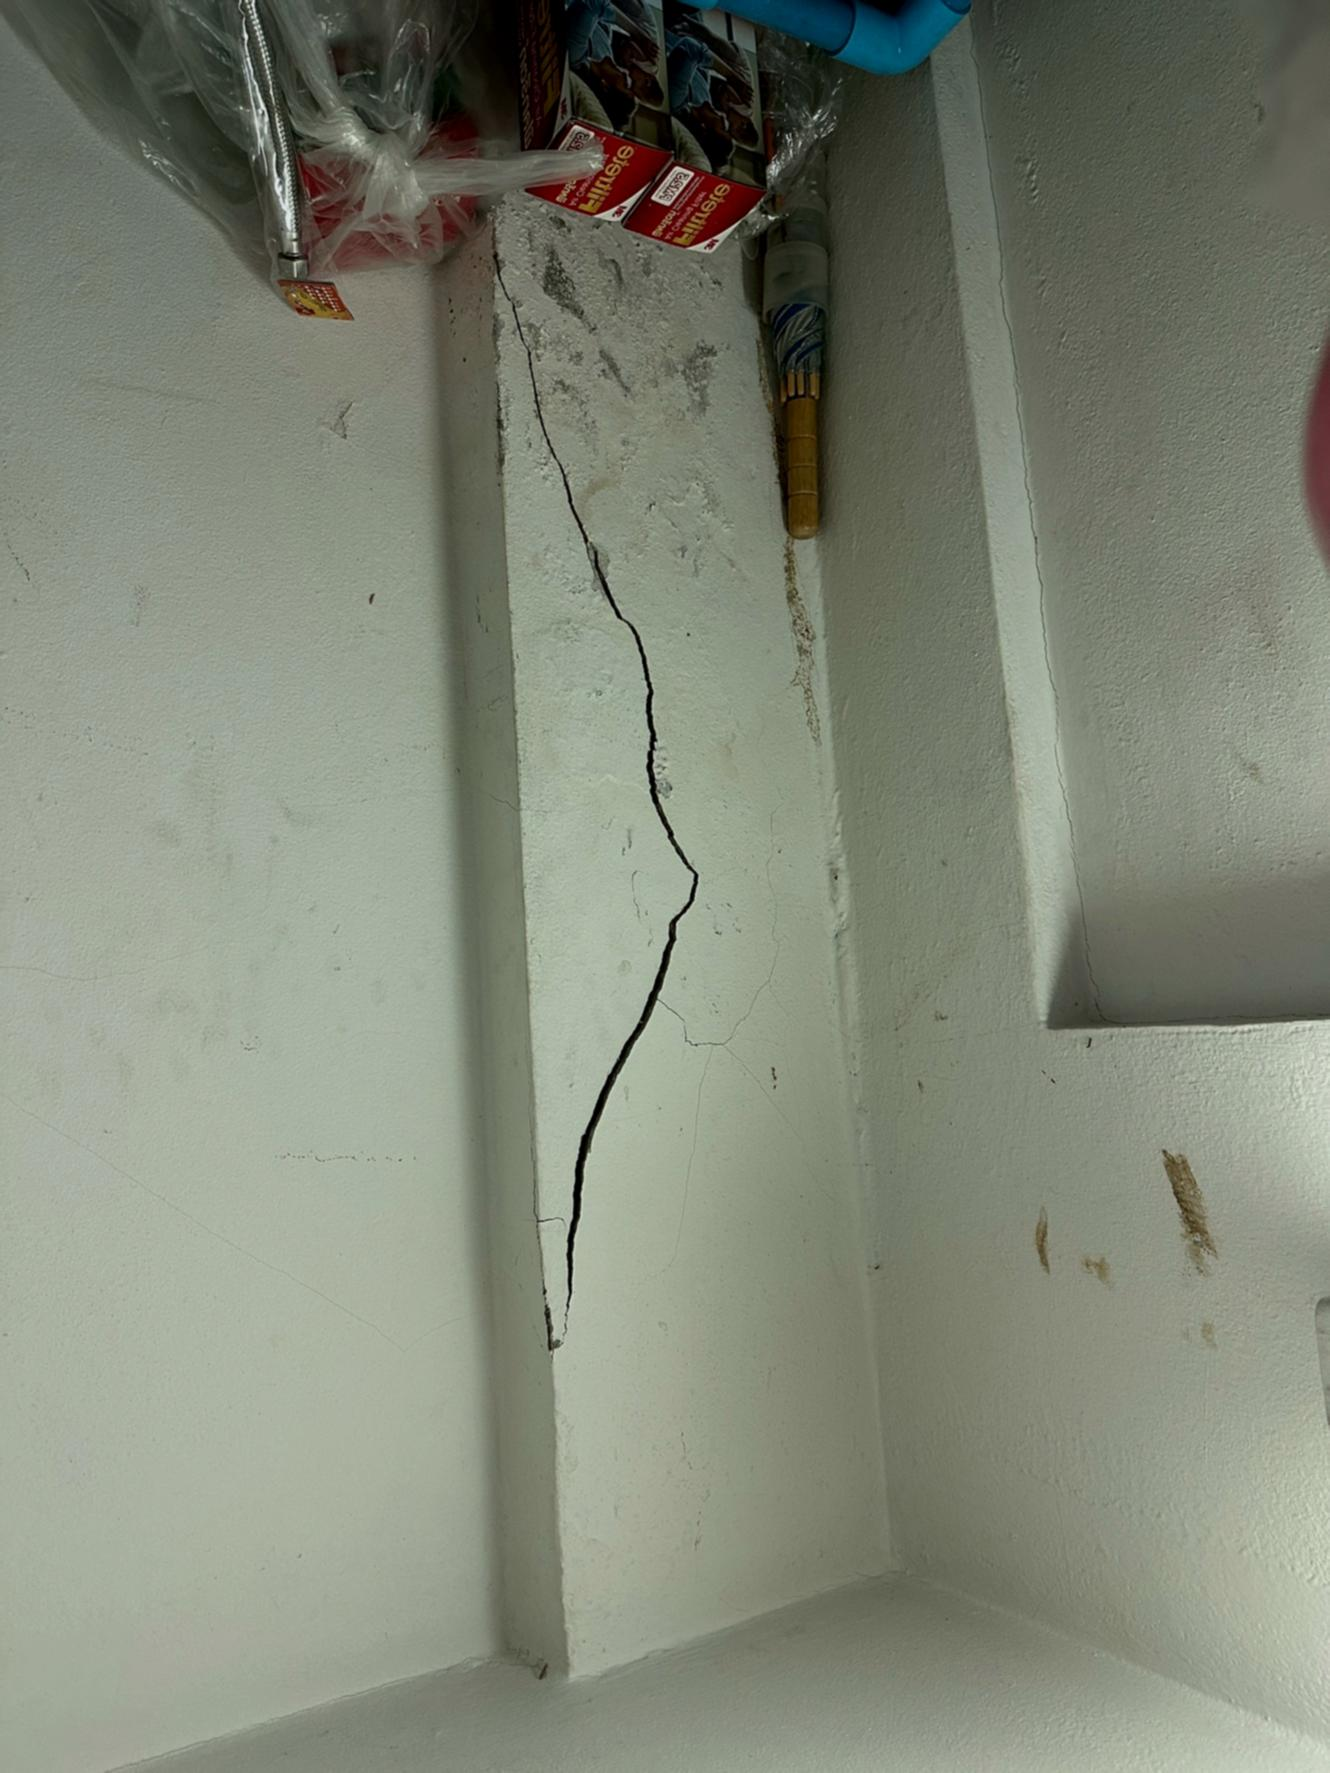High: (439, 205, 763, 1408)
